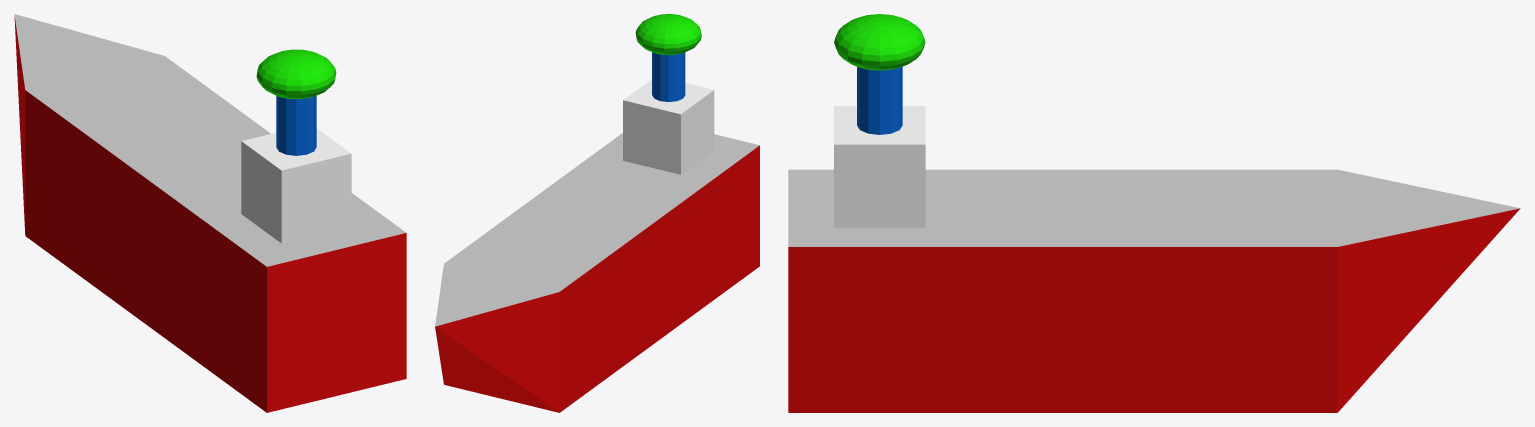
The model's file is GenericShipComponents.gltf.
3 views of the same model, side by side, from view 1: azimuth 30°, elevation 25°; view 2: azimuth 150°, elevation 25°; view 3: azimuth 270°, elevation 25° (orthographic). The views are drawn at different scales.
Parts seen in each view (by area): view 1: Main hull, Bridge, Cube, Transponder, Mast; view 2: Main hull, Cube, Bridge, Transponder, Mast; view 3: Main hull, Cube, Bridge, Transponder, Mast.
Part boxes in pixels (x1,y1,x2,y2): Main hull: (25,56,406,412); Bridge: (241,128,351,243); Cube: (14,14,163,233); Transponder: (256,49,336,99); Mast: (276,95,316,155); Main hull: (444,133,759,412); Cube: (435,264,559,412); Bridge: (623,79,714,174); Transponder: (635,14,701,54); Mast: (652,52,685,101); Main hull: (788,169,1337,412); Cube: (1337,169,1520,412); Bridge: (834,106,925,227); Transponder: (834,14,925,70); Mast: (857,67,902,134).
Bounding box in the file's own units: 4 × 8.5 × 16.
